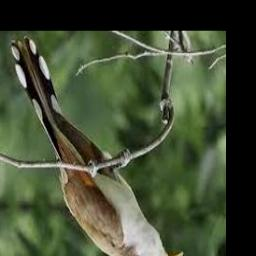Cuckoo: (10, 36, 182, 256)
